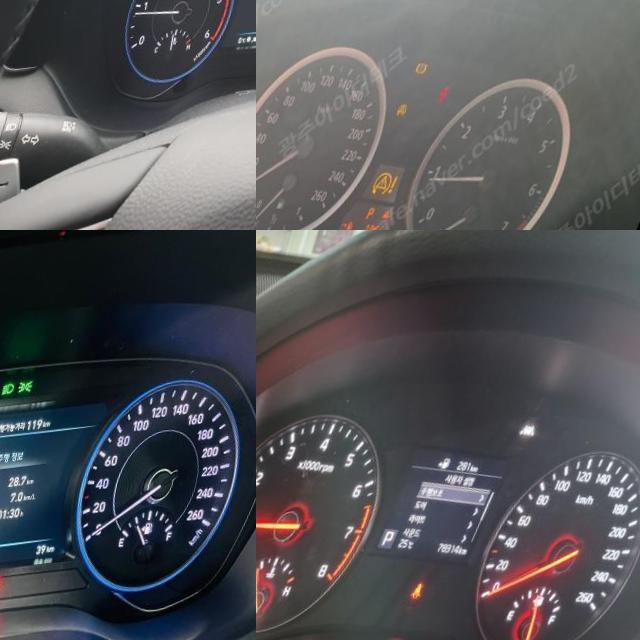LaneCenteringOff: (528, 431, 547, 449)
Low beam: (10, 390, 25, 403)
SideLamp: (26, 387, 42, 402)
